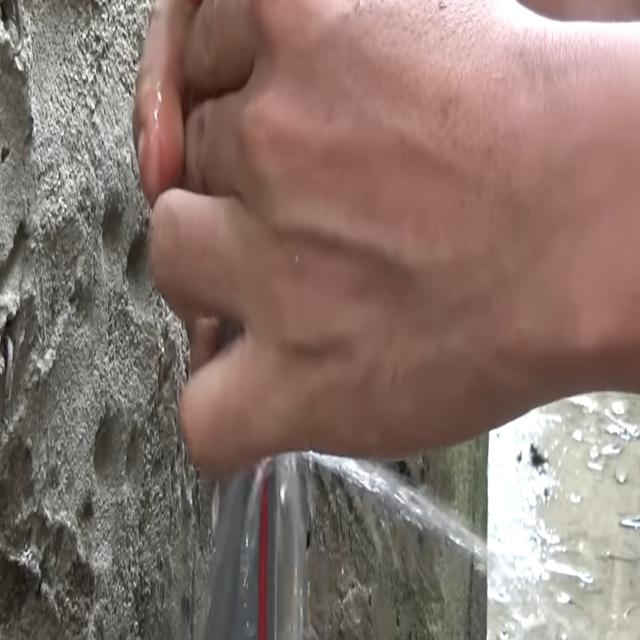leak: (270, 451, 486, 638)
